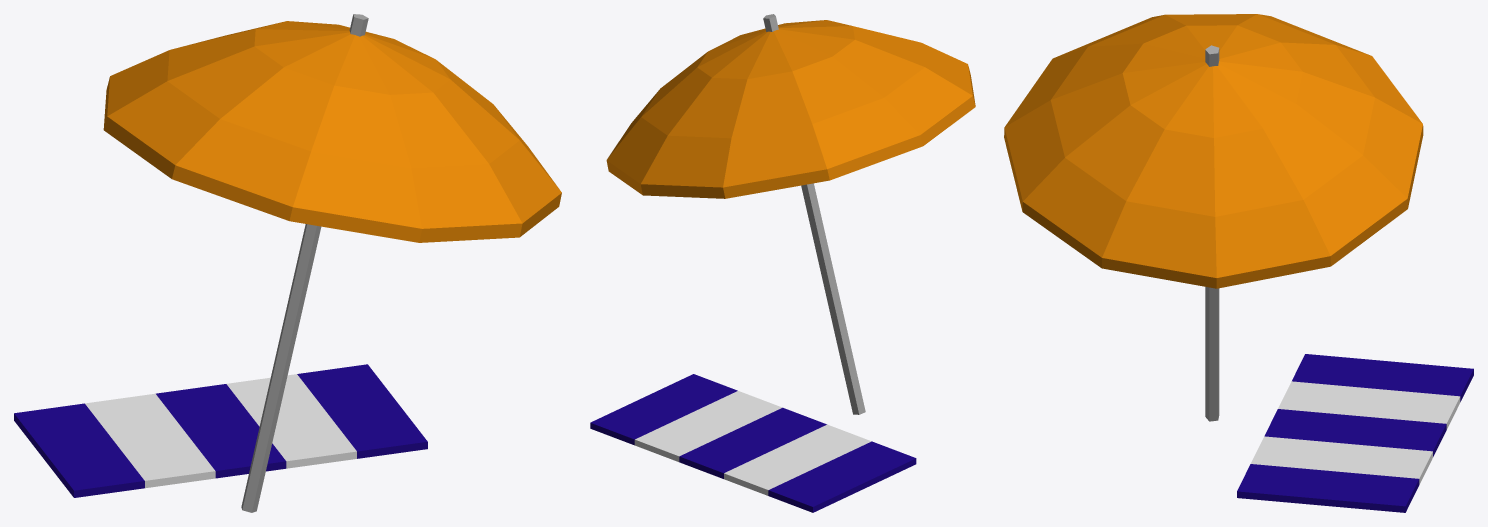
Rendered from Towel_umbrella.fbx.
3 views of the same model, side by side, from view 1: azimuth 30°, elevation 25°; view 2: azimuth 150°, elevation 25°; view 3: azimuth 270°, elevation 25° (orthographic). The views are drawn at different scales.
Parts seen in each view (by area): view 1: towel_umbrella; view 2: towel_umbrella; view 3: towel_umbrella.
Boxes of the visible parts, x1,y1,x2,y2 form: towel_umbrella: (14,14,561,512); towel_umbrella: (590,14,975,512); towel_umbrella: (1004,14,1473,512).
Size of the model in its own units: 7.98 by 8.85 by 8.99.
